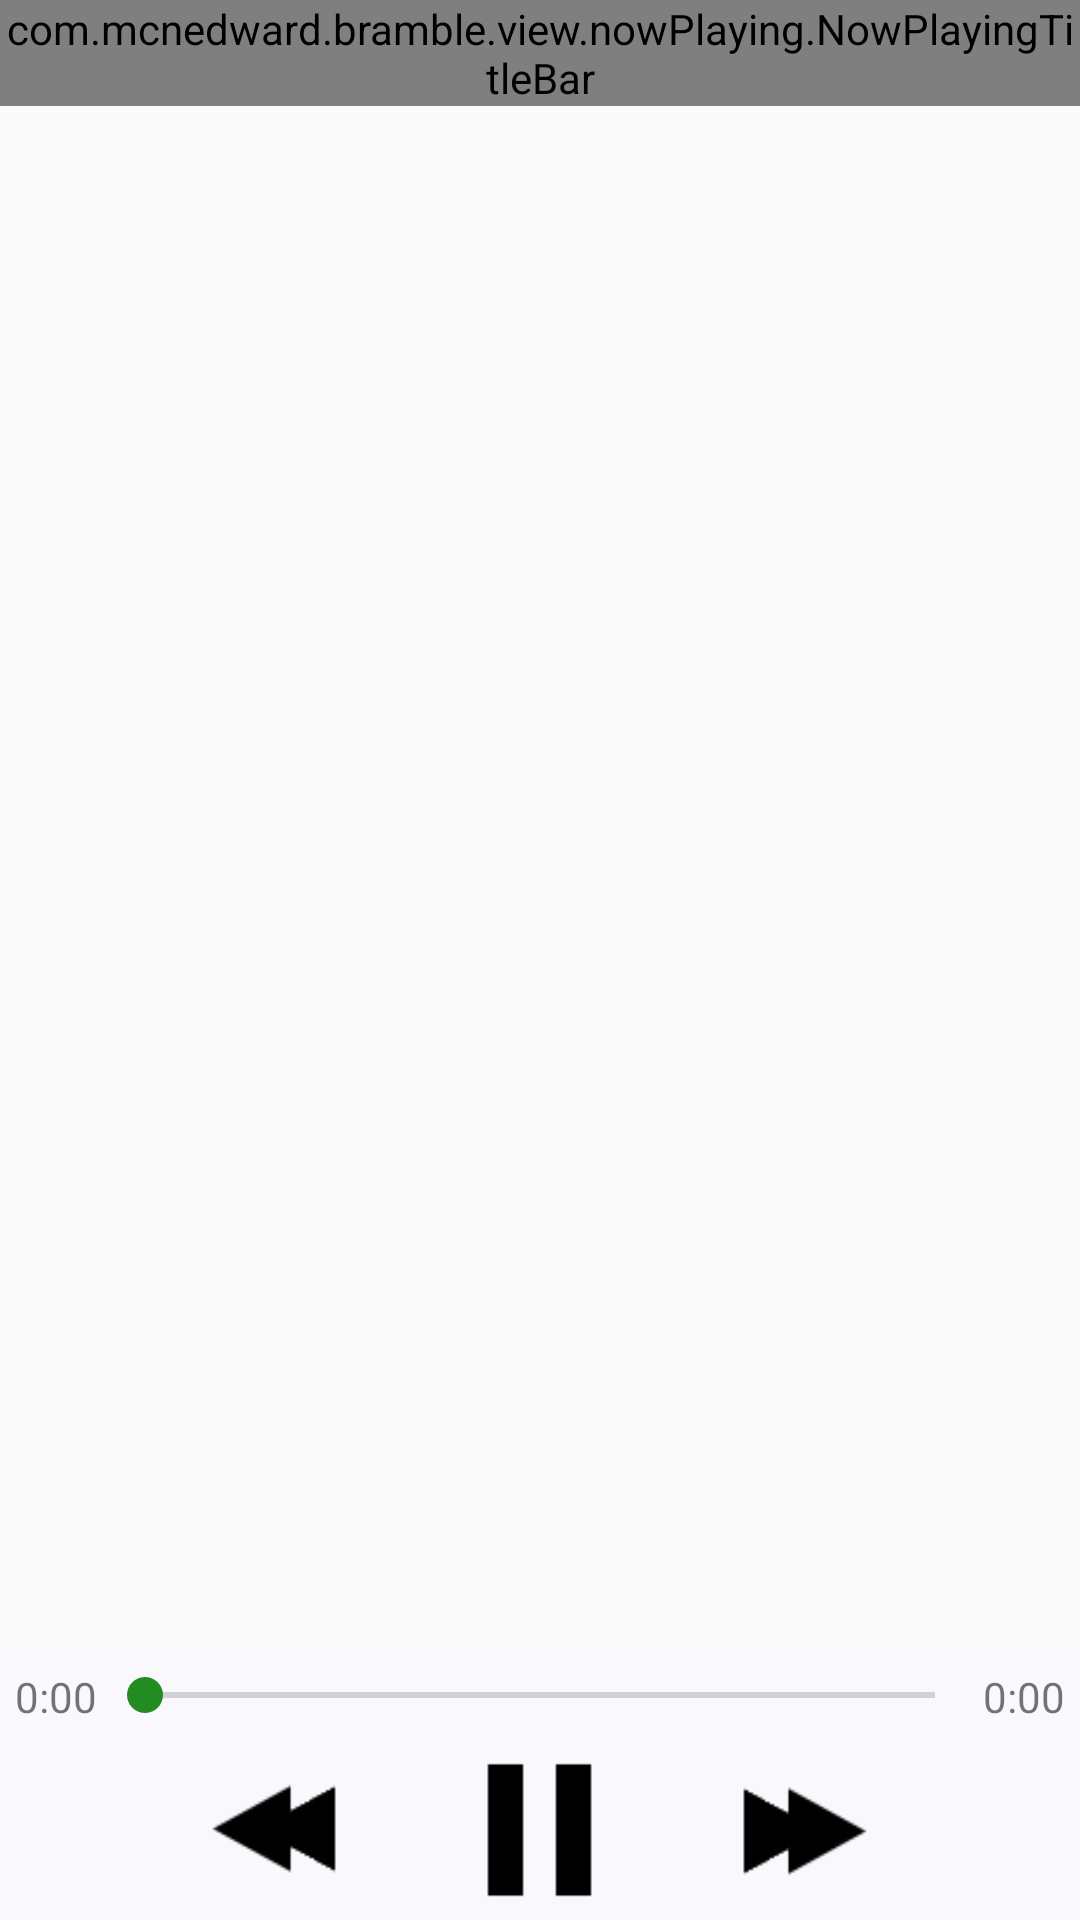

Point at icon controls on the screen. Image size 1080*1920, points as [x,y].
back: [274,1829]
forward: [805,1831]
pause: [539,1830]
